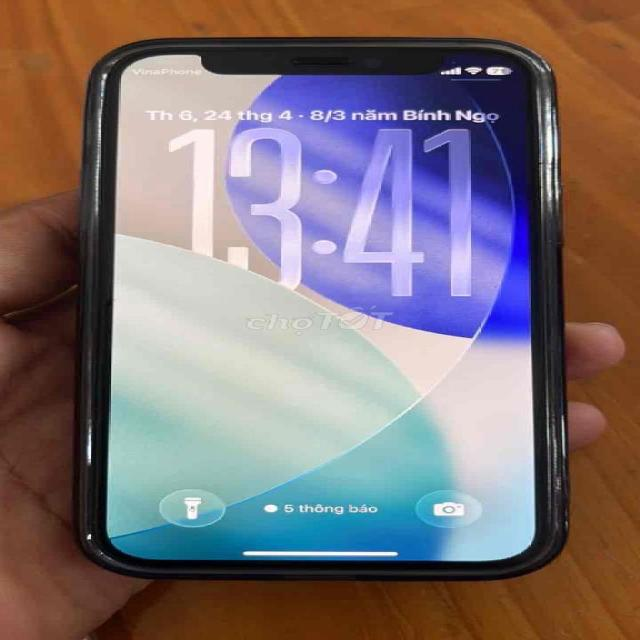gen_12_13: (59, 31, 576, 594)
